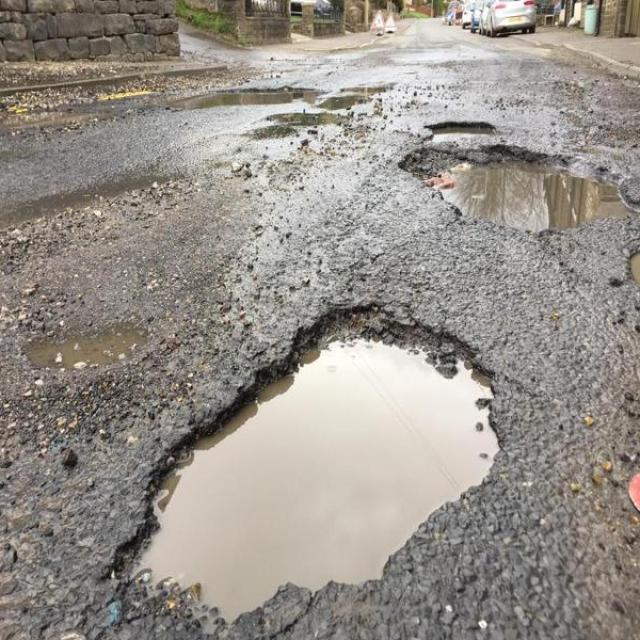Lubang: (115, 311, 505, 630), (403, 152, 640, 232)
